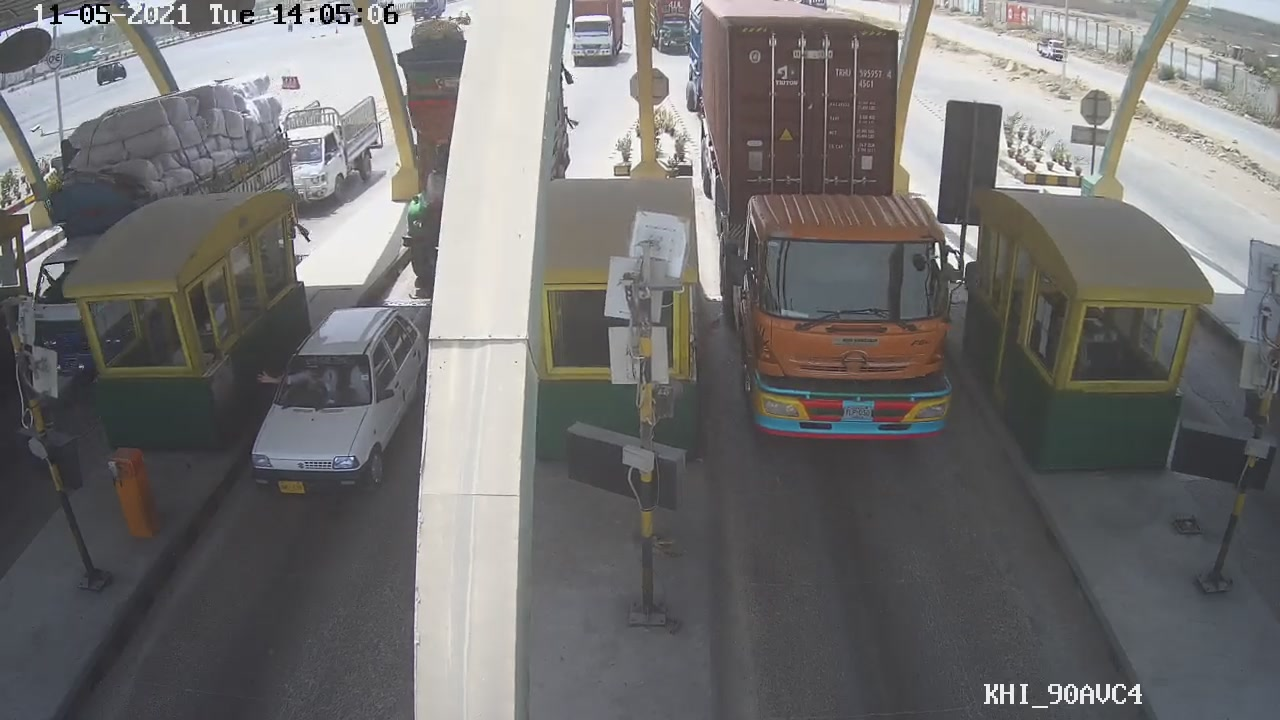F6: (695, 1, 990, 447)
